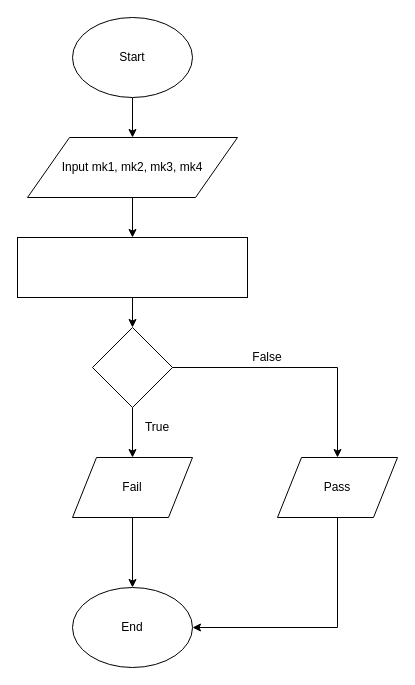
Some shapes in this 415 by 685 pixel diagram are drawn without their labels. The centre of each missing label's shape, as x and y in pixels:
avg < 60: pixel 132 367
avg = (mk1 + mk2 + mk3 + mk4)/4: pixel 132 267
